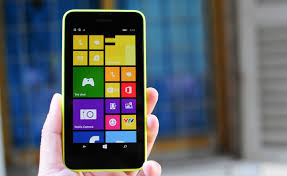nokia: (60, 8, 149, 170)
